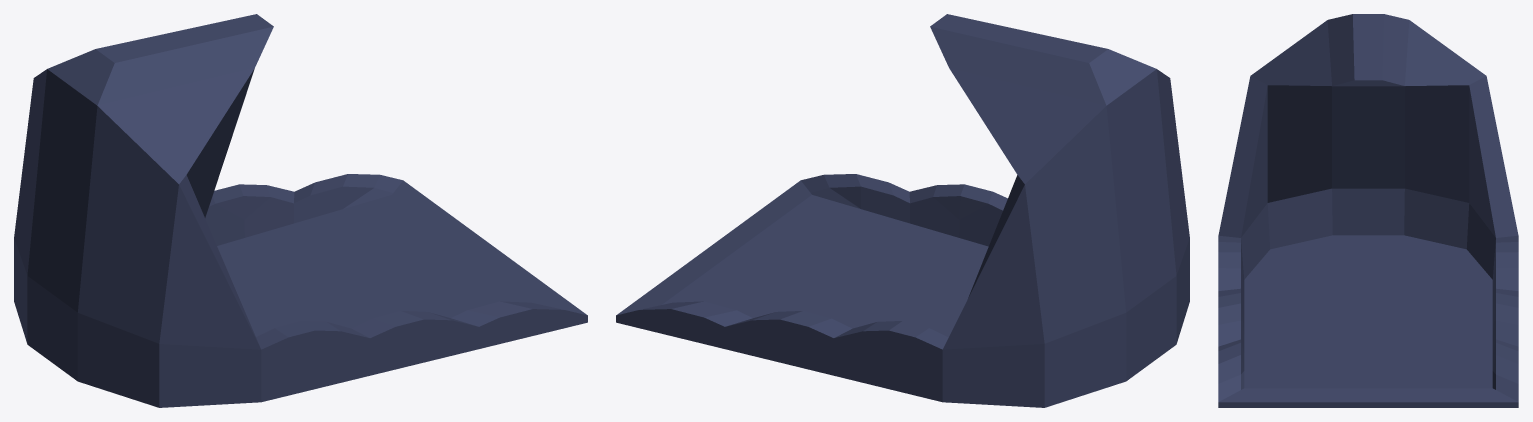
File: 'Kickable Platform.glb
The picture shows the model from 3 angles, left to right: view 1: azimuth 30°, elevation 25°; view 2: azimuth 150°, elevation 25°; view 3: azimuth 270°, elevation 25°; orthographic projection. The views are drawn at different scales.
Parts seen in each view (by area): view 1: Cube.009; view 2: Cube.009; view 3: Cube.009.
Boxes of the visible parts, bbox=[...] form: Cube.009: bbox=[14, 14, 587, 407]; Cube.009: bbox=[616, 14, 1189, 407]; Cube.009: bbox=[1218, 14, 1518, 407].
Size of the model in its own units: 0.805 by 0.511 by 0.5812.
